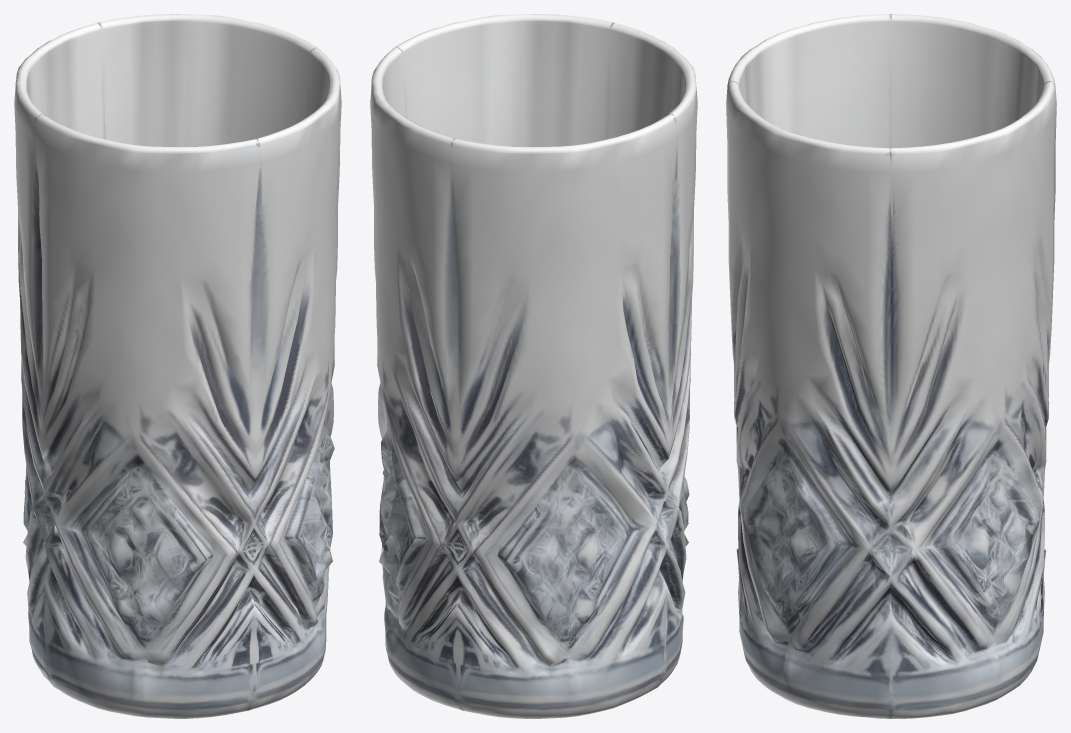
The model's file is Glass_Hiball_Cut_Cry_10InchTall_TableTop_0222193845_texture.glb.
The picture shows the model from 3 angles, left to right: view 1: azimuth 30°, elevation 25°; view 2: azimuth 150°, elevation 25°; view 3: azimuth 270°, elevation 25°; orthographic projection.
Visible parts, largest first — view 1: Mesh_0; view 2: Mesh_0; view 3: Mesh_0.
Boxes of the visible parts, x1,y1,x2,y2 form: Mesh_0: [14, 14, 341, 718]; Mesh_0: [370, 14, 697, 718]; Mesh_0: [726, 14, 1056, 718].
Bounding box in the file's own units: 0.1309 × 0.254 × 0.1309.
1 material, 1 textured.
